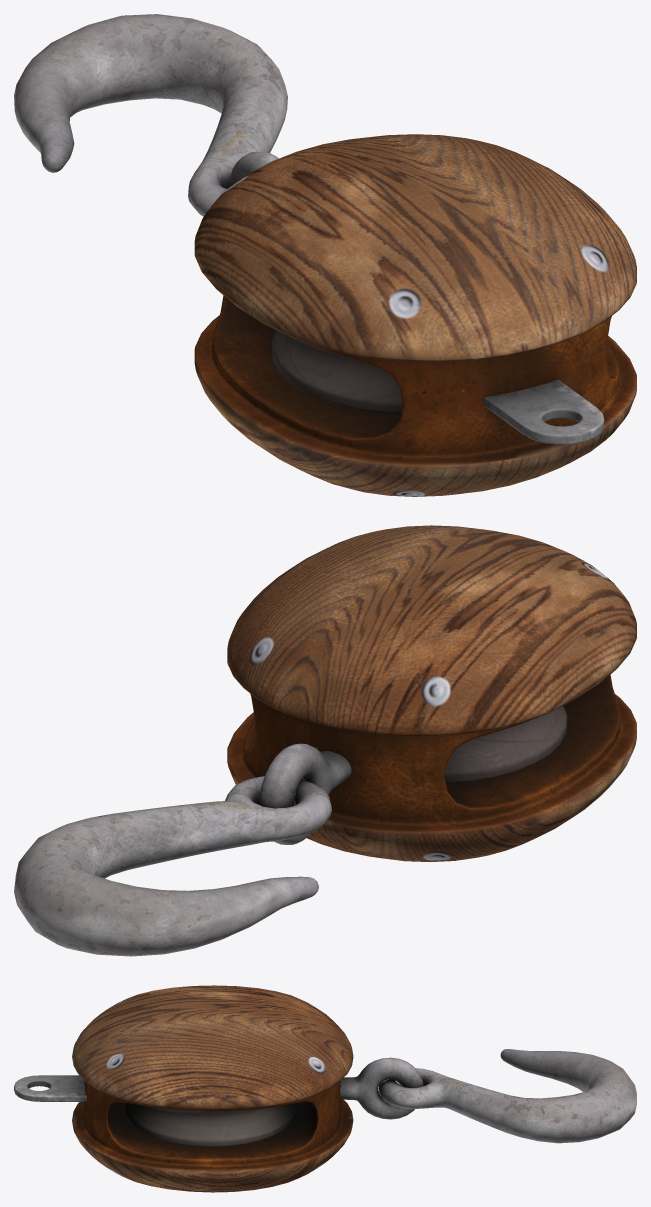
The model's file is 14068_Pulley_Hook_Single_Antique_v2_L2.obj.
3 views of the same model, one above another, from view 1: azimuth 30°, elevation 25°; view 2: azimuth 150°, elevation 25°; view 3: azimuth 270°, elevation 25° (orthographic). The views are drawn at different scales.
Visible parts, largest first — view 1: 14068_Pulley_Hook_Single_Antique_v2; view 2: 14068_Pulley_Hook_Single_Antique_v2; view 3: 14068_Pulley_Hook_Single_Antique_v2.
Part boxes in pixels (box(x1,y1,x2,y2)): 14068_Pulley_Hook_Single_Antique_v2: box(14, 14, 636, 496); 14068_Pulley_Hook_Single_Antique_v2: box(14, 525, 636, 956); 14068_Pulley_Hook_Single_Antique_v2: box(14, 985, 636, 1192).
Size of the model in its own units: 4.32 by 3.11 by 10.92.
